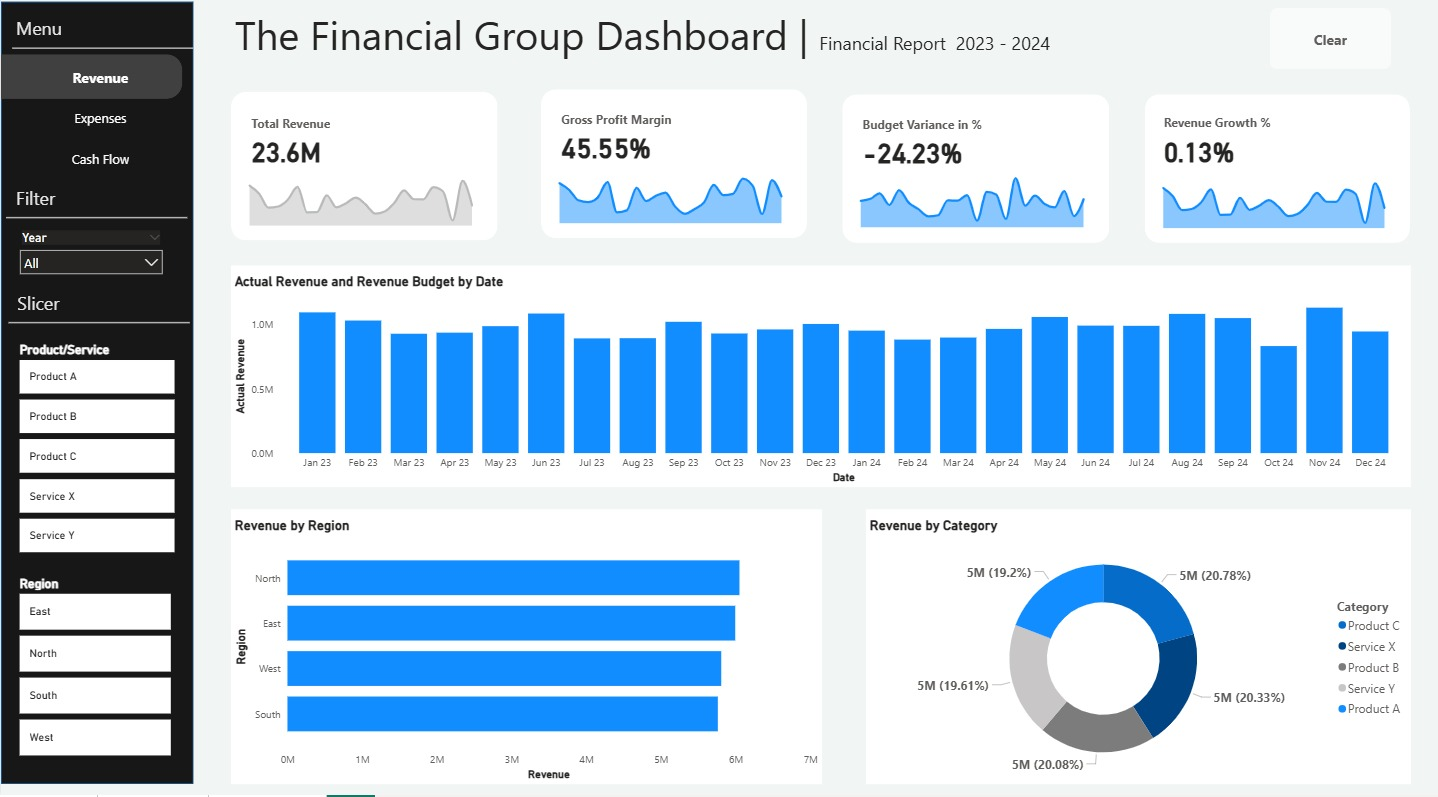

What the dashboard file says about the page in this screenshot:
{"tool":"powerbi","page":{"name":"Revenue","canvas":[1920,1080],"ordinal":0},"visuals":[{"type":"shape","box":[0,18.6,257.1,1045.1],"z":0,"group":"g5"},{"type":"textbox","box":[307.6,19.9,1360.9,88.7],"z":0},{"type":"shape","box":[0,89.4,242.2,59.6],"z":1000,"group":"g5"},{"type":"group","id":"g1","title":"Group 2","box":[307.4,137.9,355.8,197.5],"z":1000},{"type":"pageNavigator","box":[33.5,96.8,199.3,152.8],"z":2000,"group":"g5"},{"type":"shape","box":[307.4,137.9,356.3,198.7],"z":2000,"group":"g1"},{"type":"group","id":"g2","title":"Group 2","box":[1527.7,141.6,355.8,197.5],"z":2000},{"type":"shape","box":[1527.7,141.6,354.3,198.7],"z":2000,"group":"g2"},{"type":"cardVisual","fields":{"Data":["Data Analyst -Case Study Data xlsx - Data.Revenue Growth %1"]},"box":[1536.5,148.7,311.9,111.6],"z":3000,"group":"g2"},{"type":"cardVisual","fields":{"Data":["Sum(Data Analyst -Case Study Data xlsx - Data.Revenue)"]},"box":[317.3,151.3,222.7,105.2],"z":3000,"group":"g1"},{"type":"slicer","fields":{"Values":["Data Analyst -Case Study Data xlsx - Data.Month.Variation.Date Hierarchy.Year"]},"box":[14.9,318.5,210.5,80.1],"z":3000,"group":"g5"},{"type":"clusteredColumnChart","title":"Actual Revenue and Revenue Budget by Date","fields":{"Category":["Data Analyst -Case Study Data xlsx - Data.Formatted Date"],"Y":["Sum(Data Analyst -Case Study Data xlsx - Data.Revenue)"]},"box":[307.4,370.7,1576.1,296.2],"z":3000},{"type":"textbox","box":[14.9,31.6,126.7,44.7],"z":4000,"group":"g5"},{"type":"lineChart","fields":{"Y":["Sum(Data Analyst -Case Study Data xlsx - Data.Revenue)"],"Category":["Data Analyst -Case Study Data xlsx - Data.Month.Variation.Date Hierarchy.Year","Data Analyst -Case Study Data xlsx - Data.Month.Variation.Date Hierarchy.Month"]},"box":[317,231.1,327.2,90.5],"z":4000,"group":"g1"},{"type":"lineChart","fields":{"Category":["Data Analyst -Case Study Data xlsx - Data.Month.Variation.Date Hierarchy.Year","Data Analyst -Case Study Data xlsx - Data.Month.Variation.Date Hierarchy.Month"],"Y":["Sum(Data Analyst -Case Study Data xlsx - Data.Revenue)"]},"box":[1537.2,234.8,325.3,90.5],"z":4000,"group":"g2"},{"type":"clusteredBarChart","fields":{"Category":["Data Analyst -Case Study Data xlsx - Data.Region"],"Y":["Sum(Data Analyst -Case Study Data xlsx - Data.Revenue)"]},"box":[306.6,696.1,789.3,367.5],"z":4000},{"type":"shape","box":[14.9,70.8,242.2,20.5],"z":5000,"group":"g5"},{"type":"donutChart","fields":{"Category":["Data Analyst -Case Study Data xlsx - Data.Product/Service"],"Y":["Sum(Data Analyst -Case Study Data xlsx - Data.Revenue)"]},"box":[1155.1,696.1,728.3,367.5],"z":5000},{"type":"group","id":"g3","title":"Group 1","box":[721,136,355.8,199.3],"z":6000},{"type":"shape","box":[721,136,355.5,199],"z":6000,"group":"g3"},{"type":"shape","box":[1123.4,141.6,356.7,198.7],"z":6000,"group":"g4"},{"type":"textbox","box":[14.9,258.9,126.7,42.8],"z":6000,"group":"g5"},{"type":"group","id":"g4","title":"Group 1","box":[1123.4,141.6,355.8,197.5],"z":7000},{"type":"cardVisual","fields":{"Data":["Data Analyst -Case Study Data xlsx - Data.Gross Profit Margin"]},"box":[731.4,144.1,307.7,112.4],"z":7000,"group":"g3"},{"type":"cardVisual","fields":{"Data":["Data Analyst -Case Study Data xlsx - Data.Budget Variance in %"]},"box":[1133.8,149.7,308.8,112.2],"z":7000,"group":"g4"},{"type":"shape","box":[7.5,296.2,242.2,22.4],"z":7000,"group":"g5"},{"type":"group","id":"g5","title":"Group 3","box":[0,18.6,257.1,1045.1],"z":8000},{"type":"lineChart","fields":{"Category":["Data Analyst -Case Study Data xlsx - Data.Month.Variation.Date Hierarchy.Year","Data Analyst -Case Study Data xlsx - Data.Month.Variation.Date Hierarchy.Month"],"Y":["Sum(Data Analyst -Case Study Data xlsx - Data.Gross Profit)"]},"box":[730.6,229.4,326.4,90.6],"z":8000,"group":"g3"},{"type":"lineChart","fields":{"Category":["Data Analyst -Case Study Data xlsx - Data.Month.Variation.Date Hierarchy.Year","Data Analyst -Case Study Data xlsx - Data.Month.Variation.Date Hierarchy.Month"],"Y":["Data Analyst -Case Study Data xlsx - Data.Net Cash Flow"]},"box":[1133,234.8,327.6,90.5],"z":8000,"group":"g4"},{"type":"textbox","box":[16.8,398.7,126.7,42.8],"z":8000,"group":"g5"},{"type":"actionButton","title":"Clear","box":[1695.3,26.1,162.1,82],"z":9000},{"type":"shape","box":[9.3,435.9,242.2,22.4],"z":9000,"group":"g5"},{"type":"advancedSlicerVisual","fields":{"Values":["Data Analyst -Case Study Data xlsx - Data.Product/Service"]},"box":[20.5,462,218,299.9],"z":10000,"group":"g5"},{"type":"advancedSlicerVisual","fields":{"Values":["Data Analyst -Case Study Data xlsx - Data.Region"]},"box":[20.5,775,212.4,259],"z":11000,"group":"g5"}]}

Visuals, with their boxes on the page's 1920x1080 design canvas (x1, y1, x2, y2). These are canvas units, not pixel positions in the 1438x797 screenshot, which may show the page scaled, cropped or inside an application window:
shape: <bbox>0, 19, 257, 1064</bbox>
textbox: <bbox>308, 20, 1668, 109</bbox>
shape: <bbox>0, 89, 242, 149</bbox>
"Group 2" group: <bbox>307, 138, 663, 335</bbox>
pageNavigator: <bbox>34, 97, 233, 250</bbox>
shape: <bbox>307, 138, 664, 337</bbox>
"Group 2" group: <bbox>1528, 142, 1884, 339</bbox>
shape: <bbox>1528, 142, 1882, 340</bbox>
cardVisual - Data Analyst -Case Study Data xlsx - Data.Revenue Growth %1: <bbox>1536, 149, 1848, 260</bbox>
cardVisual - Sum(Data Analyst -Case Study Data xlsx - Data.Revenue): <bbox>317, 151, 540, 256</bbox>
slicer - Data Analyst -Case Study Data xlsx - Data.Month.Variation.Date Hierarchy.Year: <bbox>15, 318, 225, 399</bbox>
"Actual Revenue and Revenue Budget by Date" clusteredColumnChart: <bbox>307, 371, 1884, 667</bbox>
textbox: <bbox>15, 32, 142, 76</bbox>
lineChart - Sum(Data Analyst -Case Study Data xlsx - Data.Revenue) x Data Analyst -Case Study Data xlsx - Data.Month.Variation.Date Hierarchy.Year: <bbox>317, 231, 644, 322</bbox>
lineChart - Data Analyst -Case Study Data xlsx - Data.Month.Variation.Date Hierarchy.Year x Data Analyst -Case Study Data xlsx - Data.Month.Variation.Date Hierarchy.Month: <bbox>1537, 235, 1862, 325</bbox>
clusteredBarChart - Data Analyst -Case Study Data xlsx - Data.Region x Sum(Data Analyst -Case Study Data xlsx - Data.Revenue): <bbox>307, 696, 1096, 1064</bbox>
shape: <bbox>15, 71, 257, 91</bbox>
donutChart - Data Analyst -Case Study Data xlsx - Data.Product/Service x Sum(Data Analyst -Case Study Data xlsx - Data.Revenue): <bbox>1155, 696, 1883, 1064</bbox>
"Group 1" group: <bbox>721, 136, 1077, 335</bbox>
shape: <bbox>721, 136, 1076, 335</bbox>
shape: <bbox>1123, 142, 1480, 340</bbox>
textbox: <bbox>15, 259, 142, 302</bbox>
"Group 1" group: <bbox>1123, 142, 1479, 339</bbox>
cardVisual - Data Analyst -Case Study Data xlsx - Data.Gross Profit Margin: <bbox>731, 144, 1039, 256</bbox>
cardVisual - Data Analyst -Case Study Data xlsx - Data.Budget Variance in %: <bbox>1134, 150, 1443, 262</bbox>
shape: <bbox>8, 296, 250, 319</bbox>
"Group 3" group: <bbox>0, 19, 257, 1064</bbox>
lineChart - Data Analyst -Case Study Data xlsx - Data.Month.Variation.Date Hierarchy.Year x Data Analyst -Case Study Data xlsx - Data.Month.Variation.Date Hierarchy.Month: <bbox>731, 229, 1057, 320</bbox>
lineChart - Data Analyst -Case Study Data xlsx - Data.Month.Variation.Date Hierarchy.Year x Data Analyst -Case Study Data xlsx - Data.Month.Variation.Date Hierarchy.Month: <bbox>1133, 235, 1461, 325</bbox>
textbox: <bbox>17, 399, 144, 442</bbox>
"Clear" actionButton: <bbox>1695, 26, 1857, 108</bbox>
shape: <bbox>9, 436, 252, 458</bbox>
advancedSlicerVisual - Data Analyst -Case Study Data xlsx - Data.Product/Service: <bbox>20, 462, 238, 762</bbox>
advancedSlicerVisual - Data Analyst -Case Study Data xlsx - Data.Region: <bbox>20, 775, 233, 1034</bbox>
